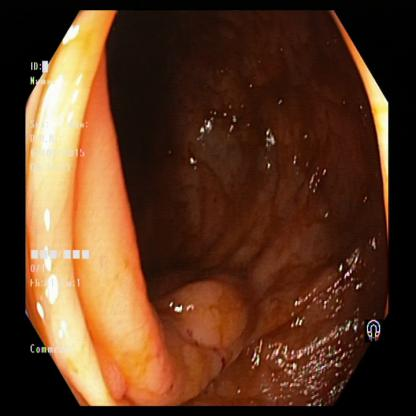Labels: (27, 57, 114, 356), (354, 305, 394, 353)
Polyps: (155, 256, 256, 386)
